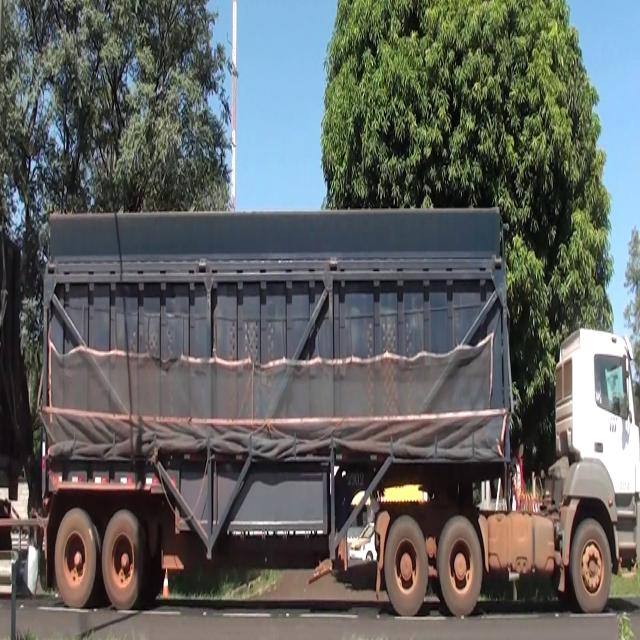-axle: (568, 514, 616, 618), (437, 515, 483, 622), (384, 516, 431, 616), (54, 508, 98, 610), (102, 510, 145, 608)
